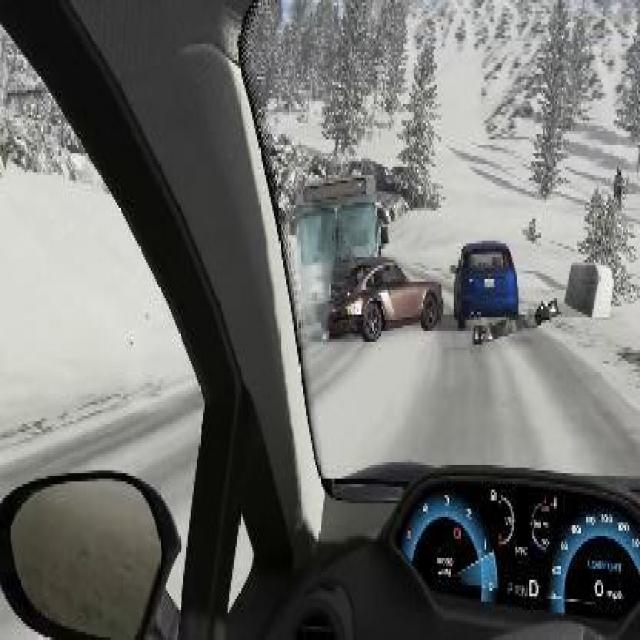accident: (292, 162, 446, 348)
